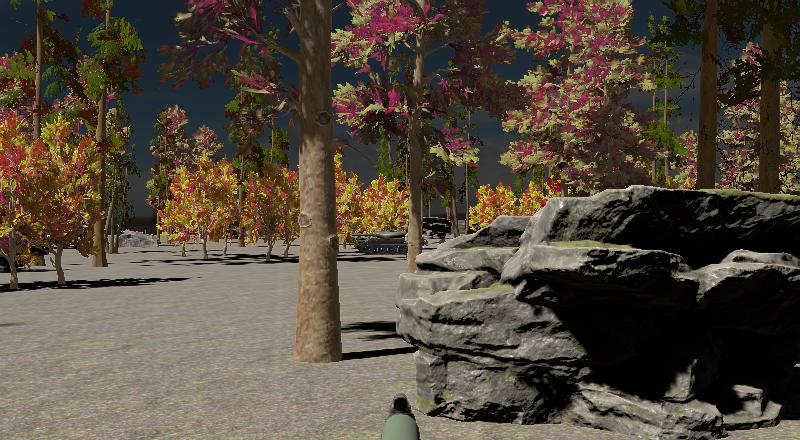Tank: (348, 227, 425, 257)
